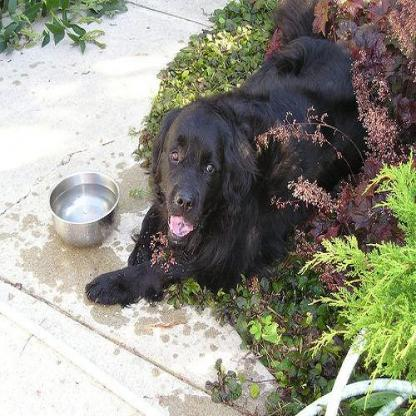Newfoundland: (82, 0, 369, 305)
